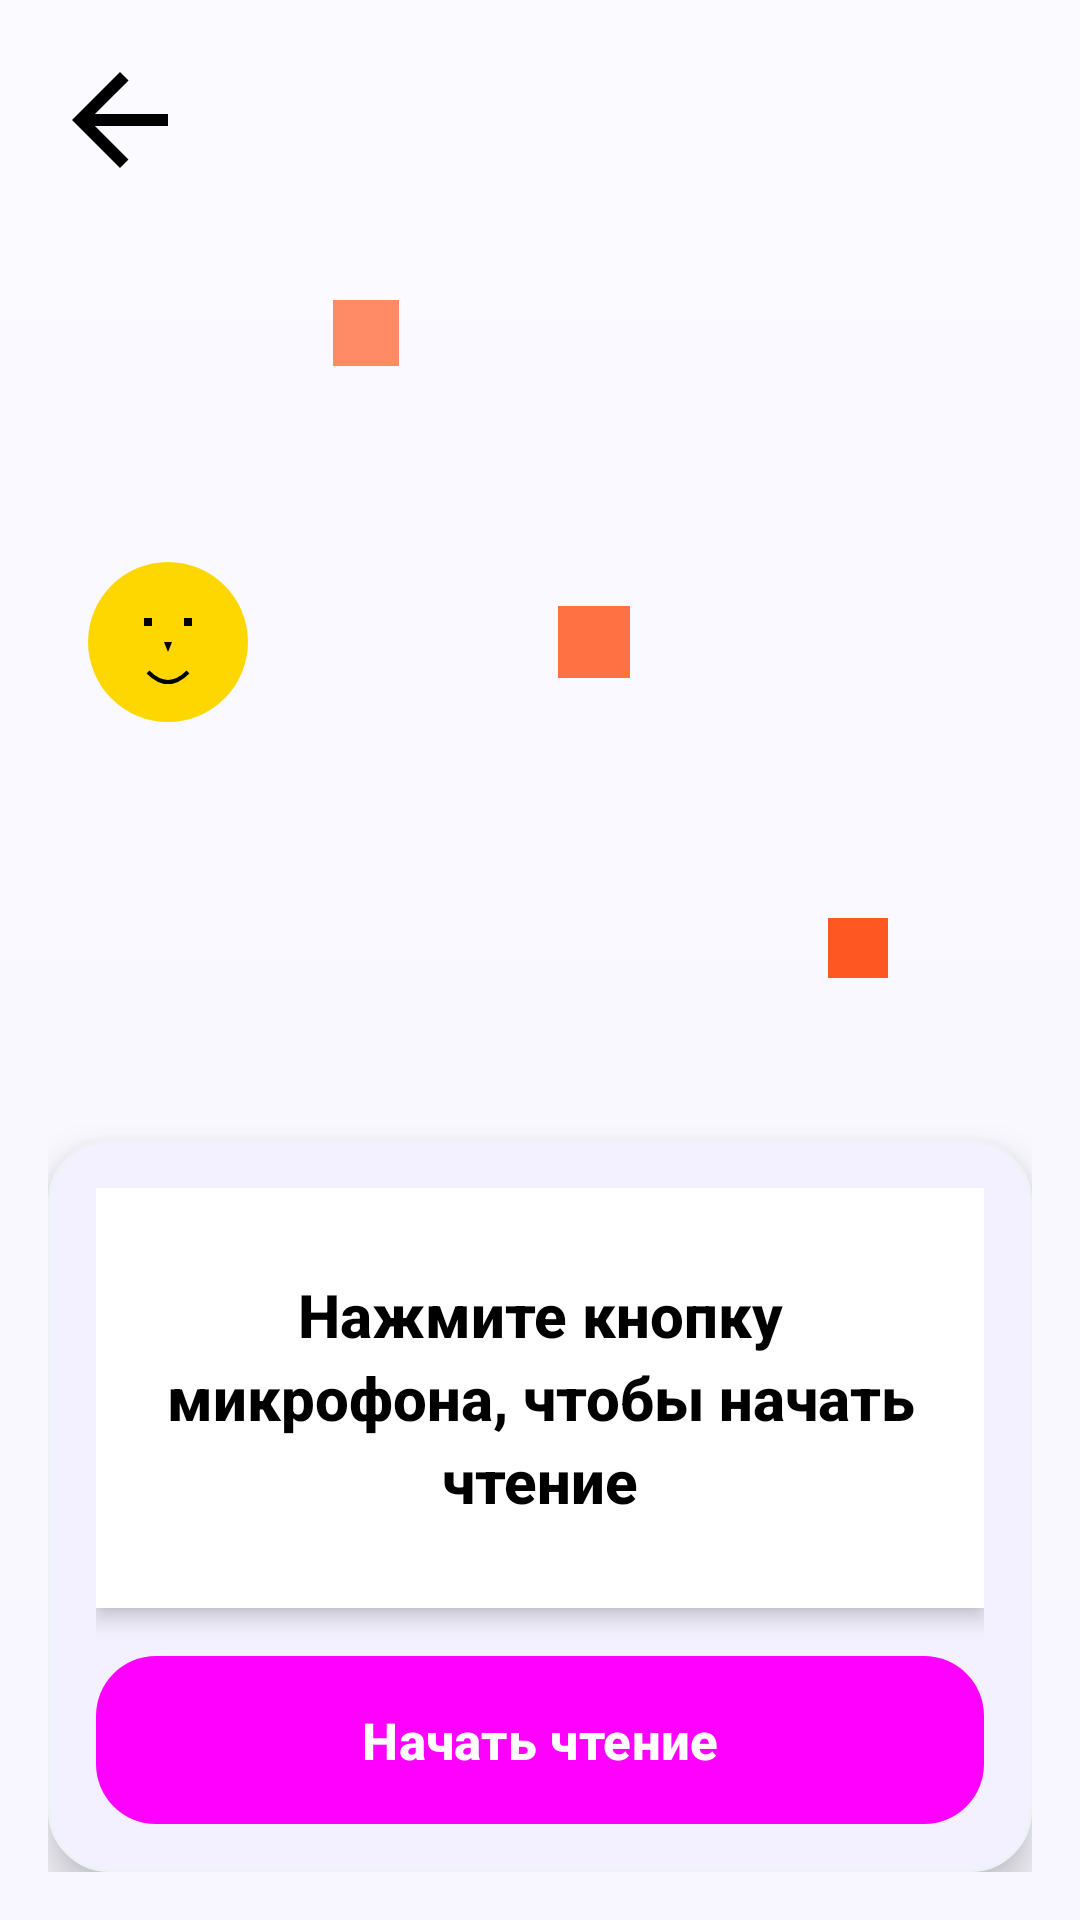

Where to tap for icons on this 1080 x 1920 app screen, as (x=x, y=y):
Назад: (x=120, y=120)
Персонаж: (x=168, y=642)
